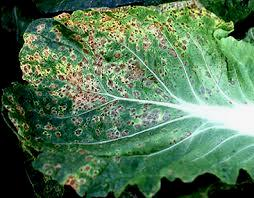Bok-Choy-Diseased: (2, 11, 254, 198)
